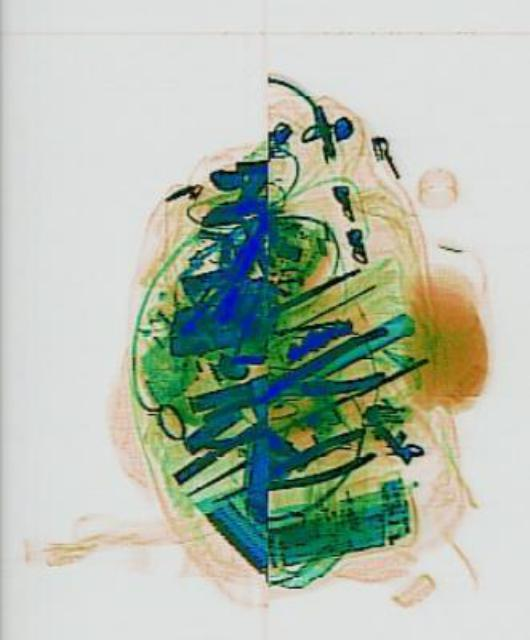Pliers: (191, 322, 397, 443), (203, 420, 377, 520)
